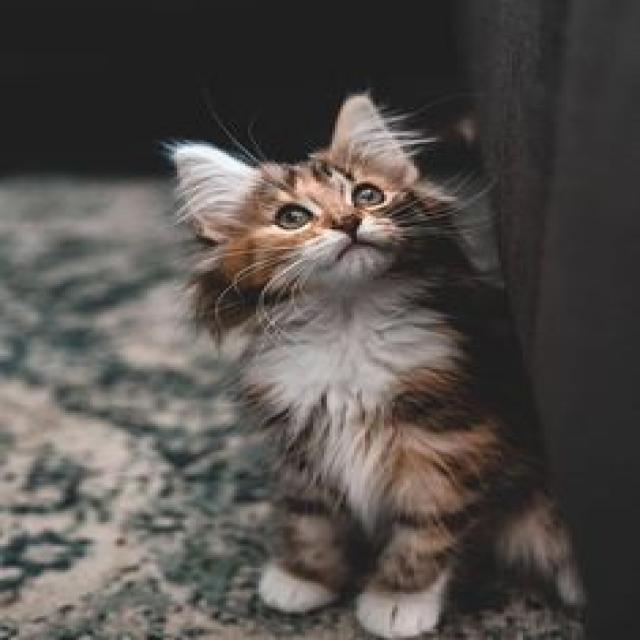da khoe manh: (266, 317, 518, 547)
